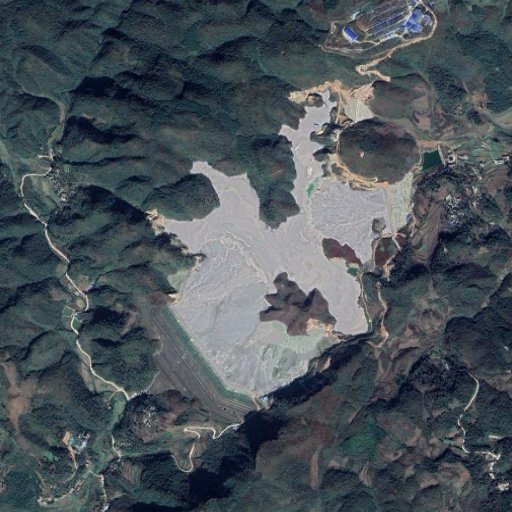tp: (142, 84, 419, 427)
